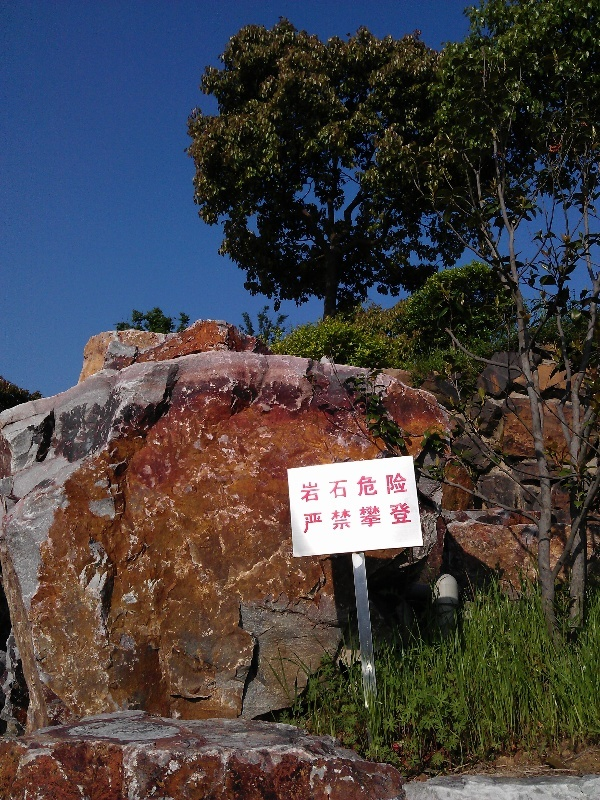text: (305, 502, 320, 535), (321, 502, 336, 535), (337, 502, 352, 535), (353, 502, 368, 535), (369, 502, 384, 535), (385, 502, 400, 535), (305, 472, 320, 503), (321, 472, 336, 503), (337, 472, 352, 503), (353, 472, 368, 503), (369, 472, 384, 503), (385, 472, 400, 503), (401, 502, 413, 535), (401, 472, 409, 503), (299, 472, 304, 503), (301, 502, 304, 535)
